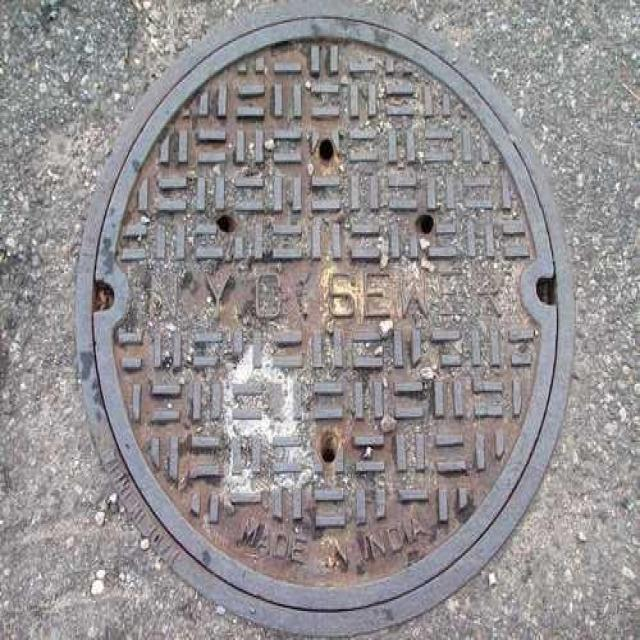manhole: (74, 12, 575, 635)
